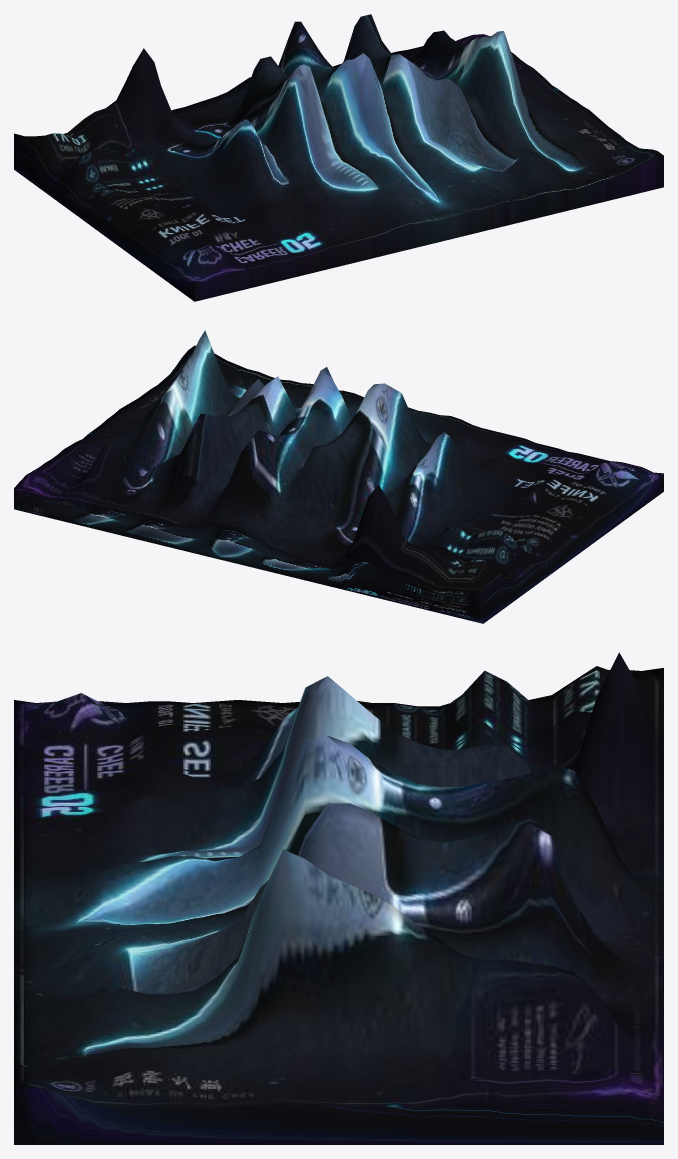
File: CAREER_05_Tool_01_Knife_Set.glb
3 views of the same model, one above another, from view 1: azimuth 30°, elevation 25°; view 2: azimuth 150°, elevation 25°; view 3: azimuth 270°, elevation 25° (orthographic). The views are drawn at different scales.
Visible parts, largest first — view 1: CAREER_05_Tool_01_Knife_Set; view 2: CAREER_05_Tool_01_Knife_Set; view 3: CAREER_05_Tool_01_Knife_Set.
Boxes of the visible parts, x1=… form: CAREER_05_Tool_01_Knife_Set: x1=14, y1=14, x2=663, y2=301; CAREER_05_Tool_01_Knife_Set: x1=14, y1=330, x2=663, y2=623; CAREER_05_Tool_01_Knife_Set: x1=14, y1=652, x2=663, y2=1144.
Size of the model in its own units: 2 by 0.51 by 1.33.
1 material, 1 textured.
